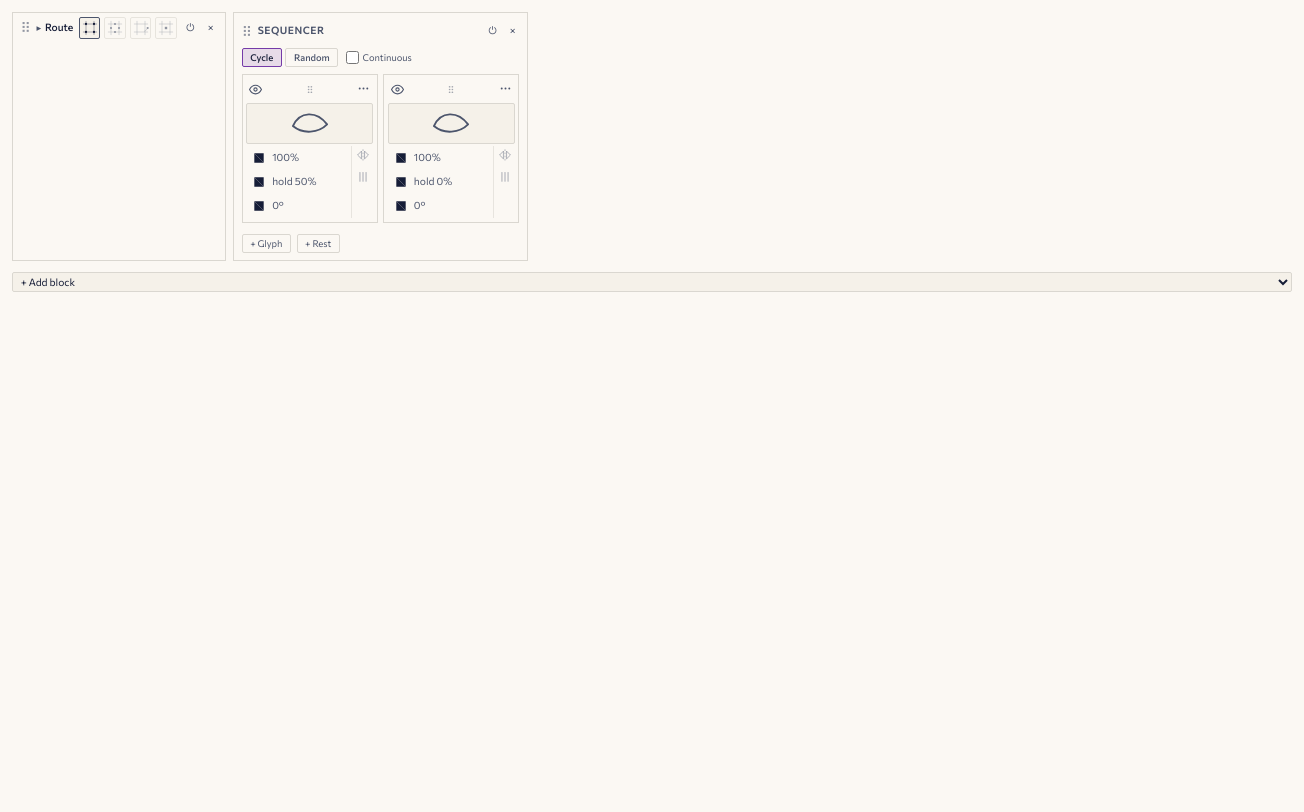
Test: AnchorGhostOverlay — the footprint reveal › clears cleanly on leave — never left drawn over the artwork
Hover over the element showing "hold 50%": (283, 182) left=250, top=170, right=316, bottom=194
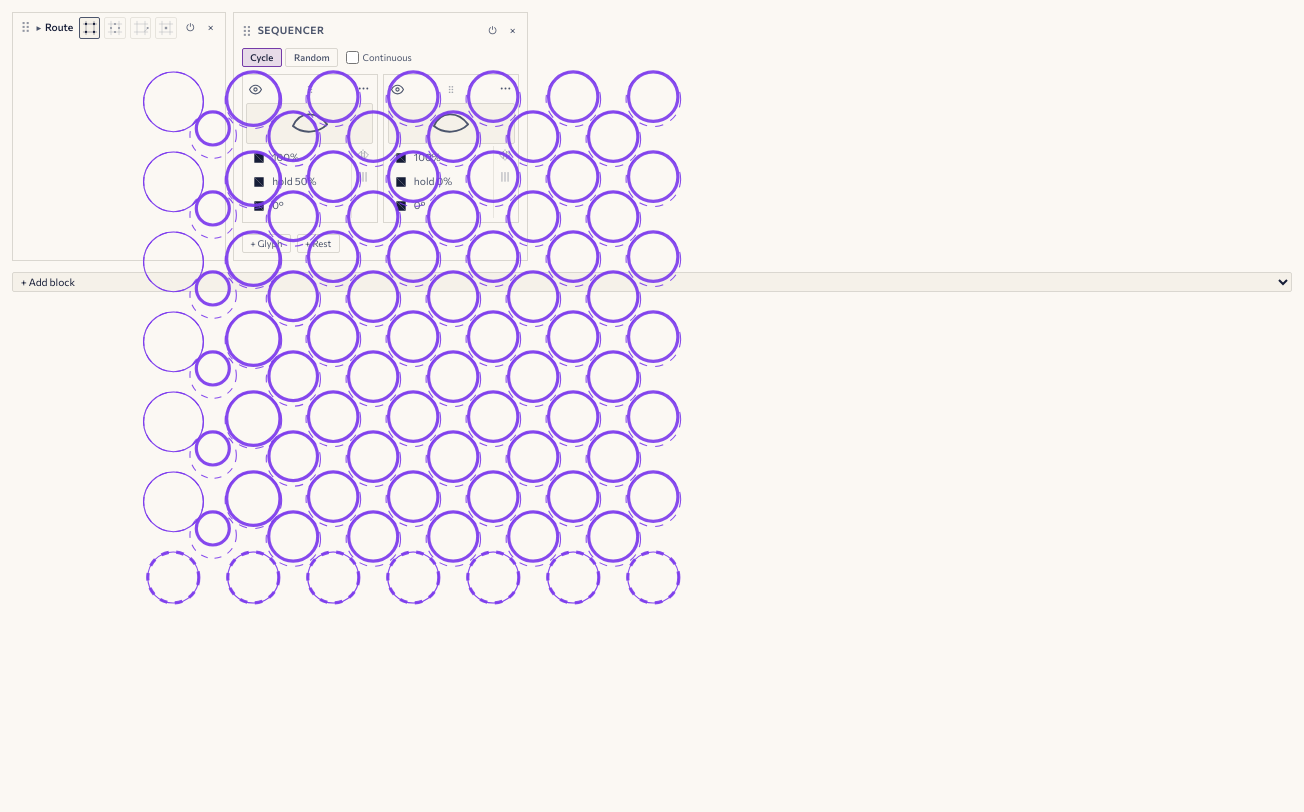
Now the icon with test id "motif-footprint-overlay" is shown, box left=12, top=12, right=812, bottom=612
Move the pointer off the element showing "hold 50%", box left=250, top=170, right=316, bottom=194
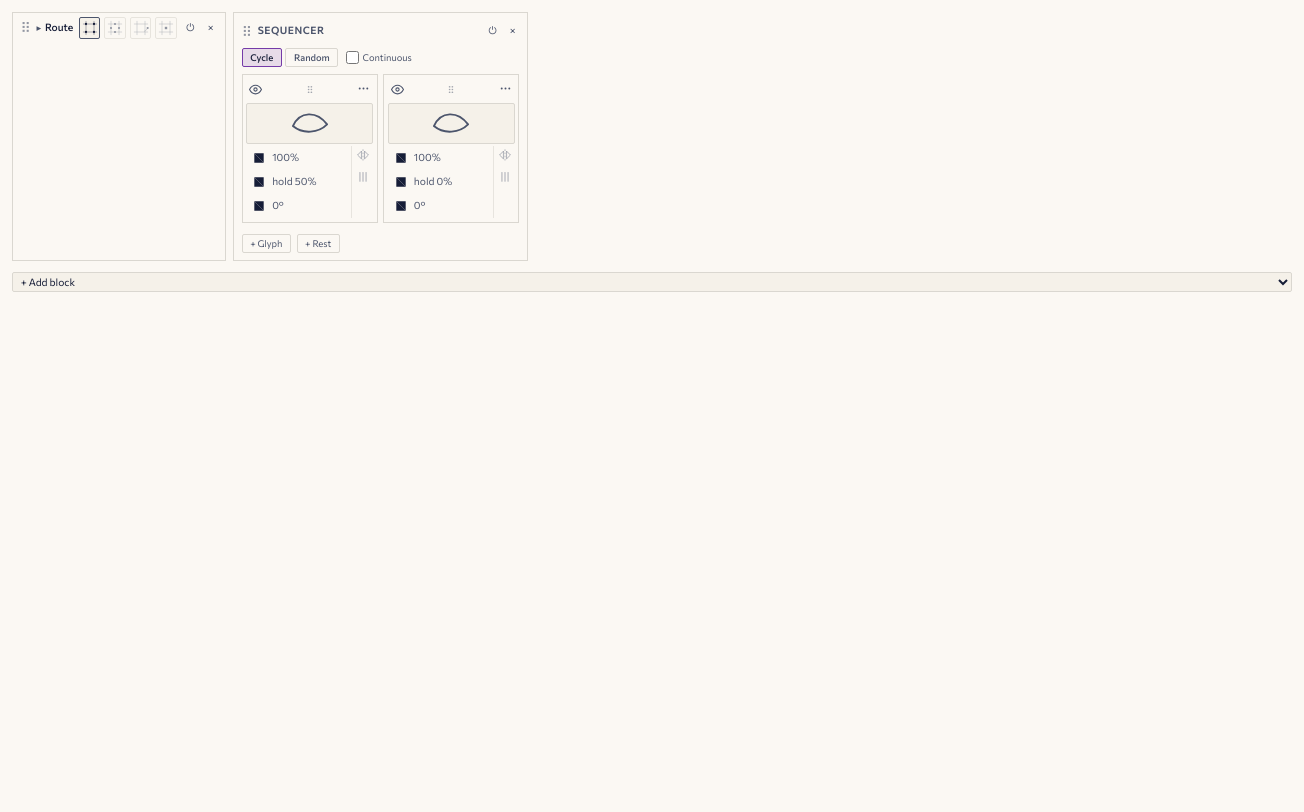
Now the icon with test id "motif-footprint-overlay" is gone
